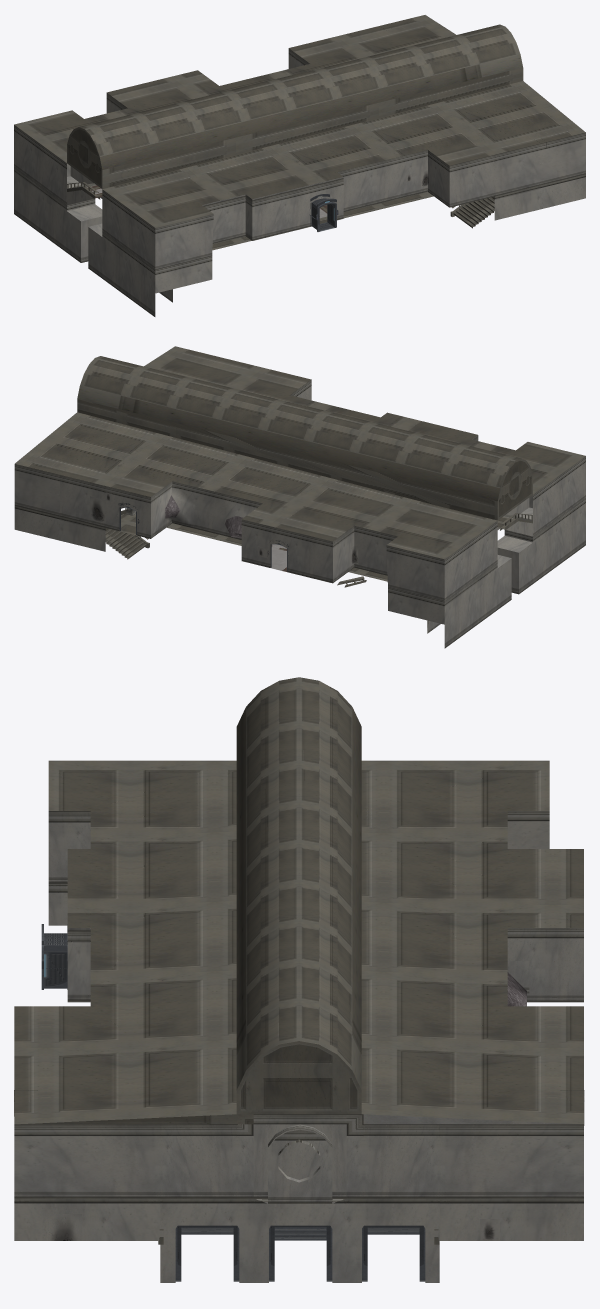
The model's file is Cor1_bldg_library_upper.fbx.
3 renders of one model, top to bottom at view 1: azimuth 30°, elevation 25°; view 2: azimuth 150°, elevation 25°; view 3: azimuth 270°, elevation 25°, orthographic. The views are drawn at different scales.
Visible parts, largest first — view 1: polymsh1228, Main_Library1, polymsh1392; view 2: polymsh1228, Main_Library1; view 3: polymsh1228, Main_Library1, polymsh1434, polymsh1452, polymsh1392, polymsh1444, polymsh1438, polymsh1445.
Boxes of the visible parts, x1=… form: polymsh1228: x1=14, y1=15, x2=585, y2=227; Main_Library1: x1=14, y1=48, x2=585, y2=316; polymsh1392: x1=309, y1=194, x2=338, y2=231; polymsh1228: x1=15, y1=346, x2=585, y2=587; Main_Library1: x1=14, y1=379, x2=585, y2=648; polymsh1228: x1=14, y1=677, x2=583, y2=1244; Main_Library1: x1=14, y1=811, x2=584, y2=1240; polymsh1434: x1=160, y1=1129, x2=439, y2=1282; polymsh1452: x1=253, y1=1114, x2=346, y2=1198; polymsh1392: x1=41, y1=924, x2=67, y2=989; polymsh1444: x1=269, y1=1225, x2=332, y2=1281; polymsh1438: x1=175, y1=1225, x2=239, y2=1281; polymsh1445: x1=362, y1=1225, x2=425, y2=1281.
Size of what is drawn, in the model's own units: 7618 by 2331 by 4915.
